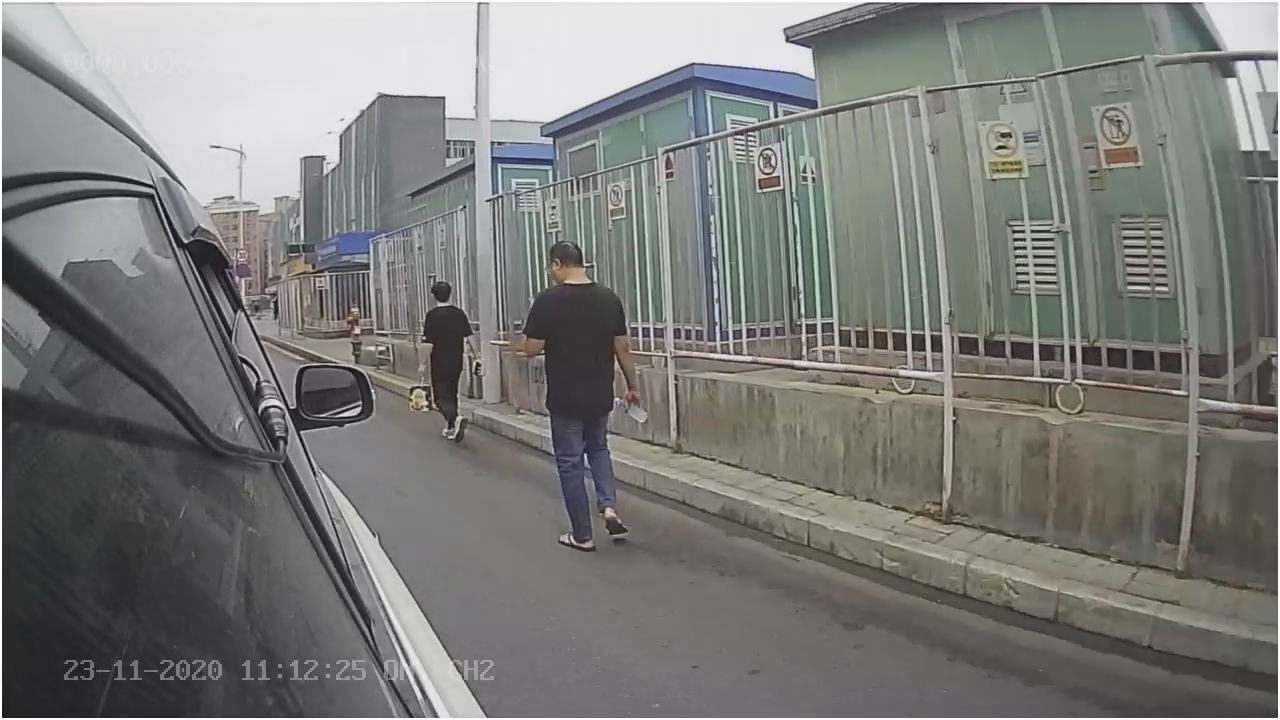person: (530, 242, 644, 551)
